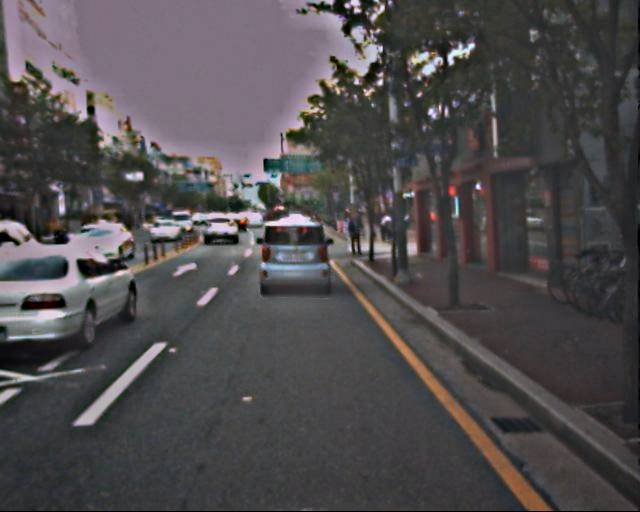person: (344, 209, 365, 261)
